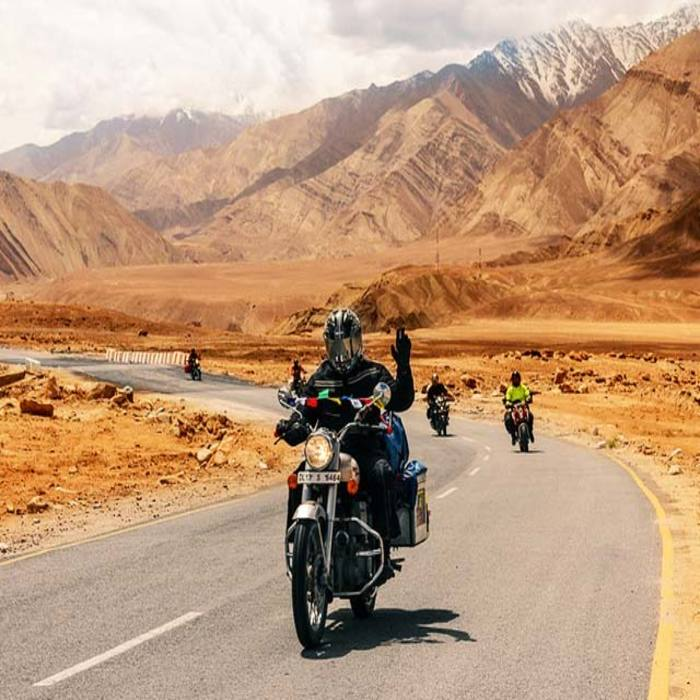h: (322, 305, 365, 377), (509, 368, 524, 388)
n: (295, 469, 342, 486)
